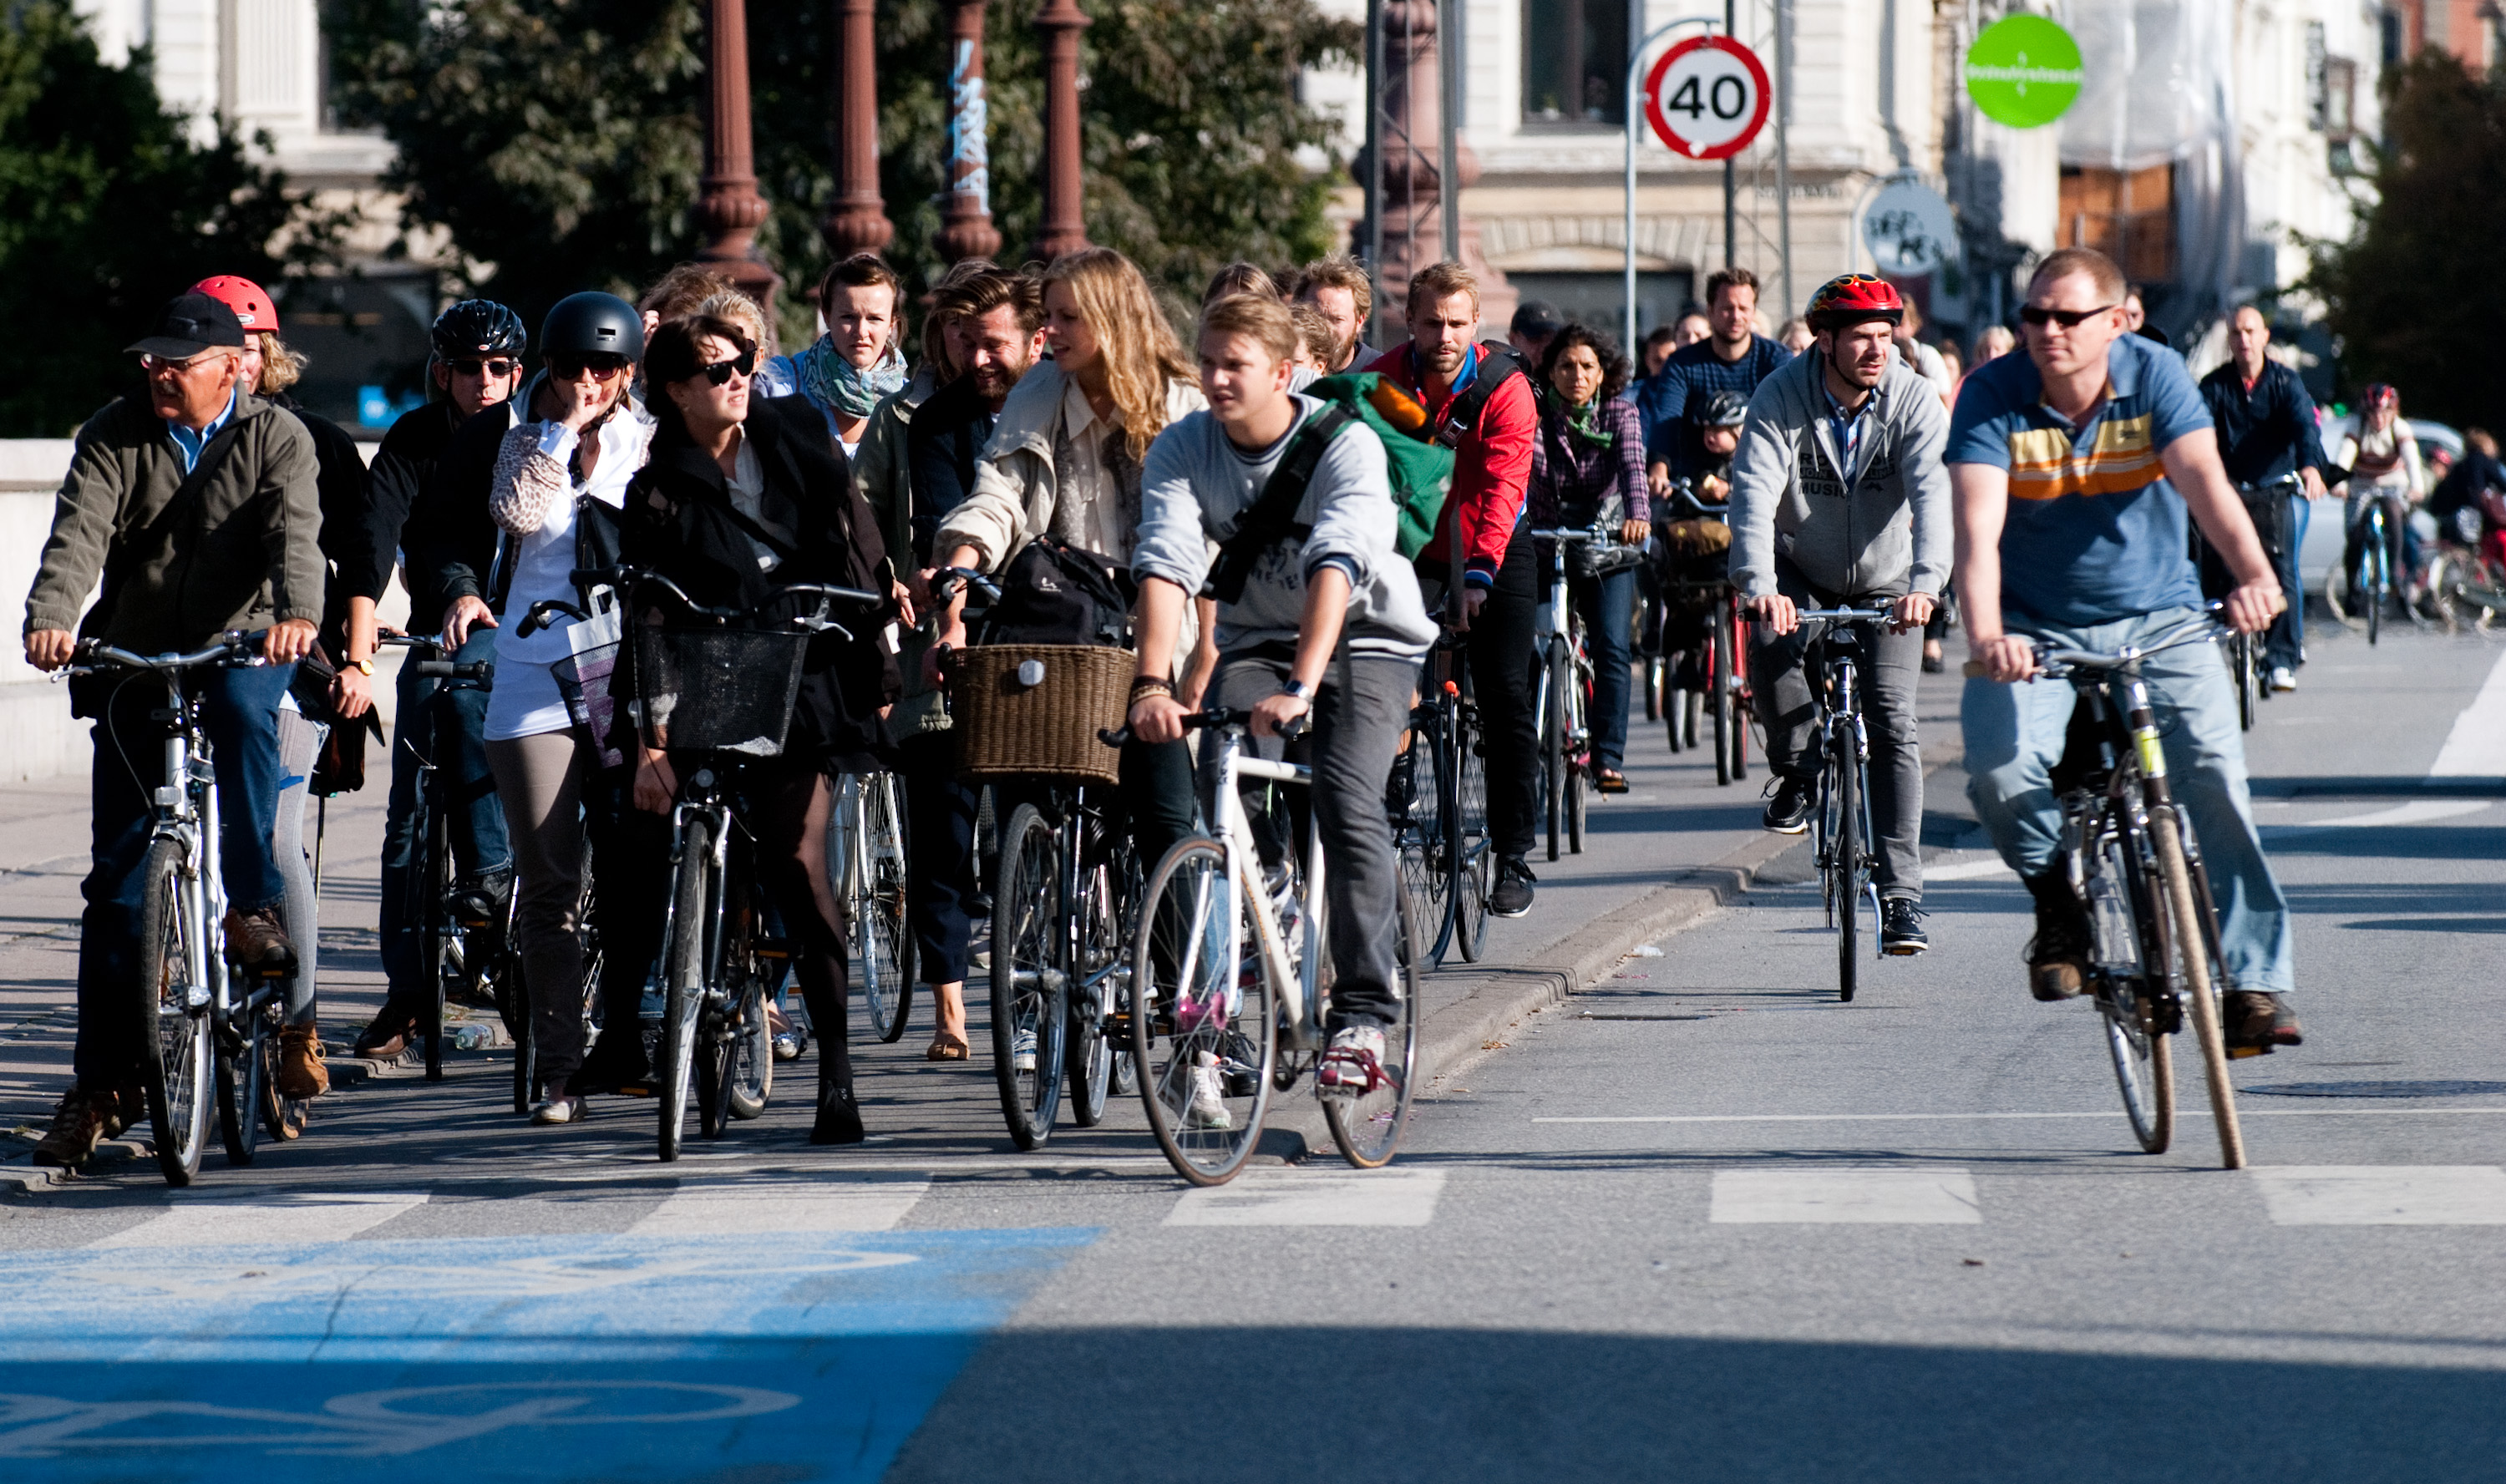cyclist_front: (1944, 246, 2325, 1183), (17, 279, 330, 1208), (882, 225, 1186, 1153), (1137, 306, 1434, 1182), (601, 308, 866, 1157), (1738, 265, 1966, 1009), (1499, 330, 1641, 879), (2325, 371, 2418, 652)
